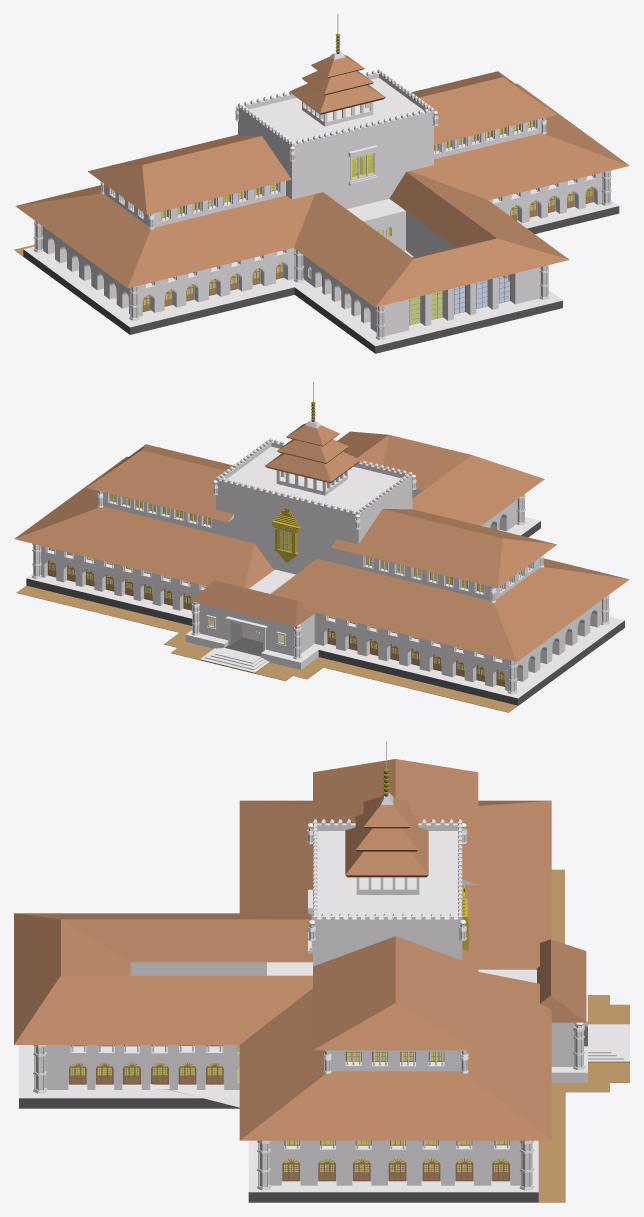
The model's file is gedung-sate.glb.
3 views of the same model, one above another, from view 1: azimuth 30°, elevation 25°; view 2: azimuth 150°, elevation 25°; view 3: azimuth 270°, elevation 25° (orthographic). The views are drawn at different scales.
Parts seen in each view (by area): view 1: Object_3, Object_2, Object_40; view 2: Object_3, Object_2, Object_40; view 3: Object_3, Object_2, Object_40.
Part boxes in pixels (left/top/right/bottom): Object_3: left=14, top=14, right=629, bottom=353; Object_2: left=24, top=200, right=618, bottom=346; Object_40: left=143, top=121, right=591, bottom=325; Object_3: left=14, top=382, right=629, bottom=712; Object_2: left=26, top=517, right=624, bottom=698; Object_40: left=49, top=494, right=504, bottom=679; Object_3: left=14, top=741, right=629, bottom=1202; Object_2: left=19, top=994, right=587, bottom=1192; Object_40: left=70, top=1045, right=508, bottom=1171.
Bounding box in the file's own units: 125 × 52.62 × 95.5.
3 materials, 3 textured.
